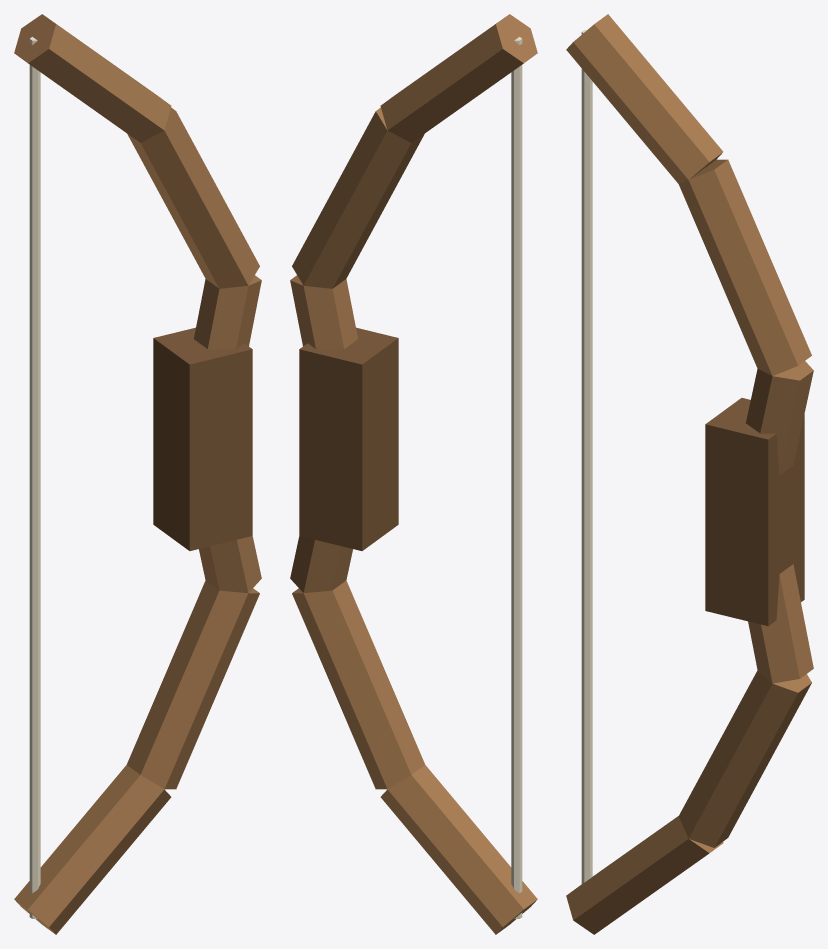
Rendered from shortbow.glb.
3 renders of one model, left to right at view 1: azimuth 30°, elevation 25°; view 2: azimuth 150°, elevation 25°; view 3: azimuth 330°, elevation 25°, orthographic.
Parts seen in each view (by area): view 1: shortbow; view 2: shortbow; view 3: shortbow.
Part boxes in pixels (x1=…): shortbow: x1=14, y1=14, x2=261, y2=934; shortbow: x1=290, y1=14, x2=537, y2=934; shortbow: x1=566, y1=14, x2=813, y2=934.
Size of the model in its own units: 0.2229 by 0.8295 by 0.06.
